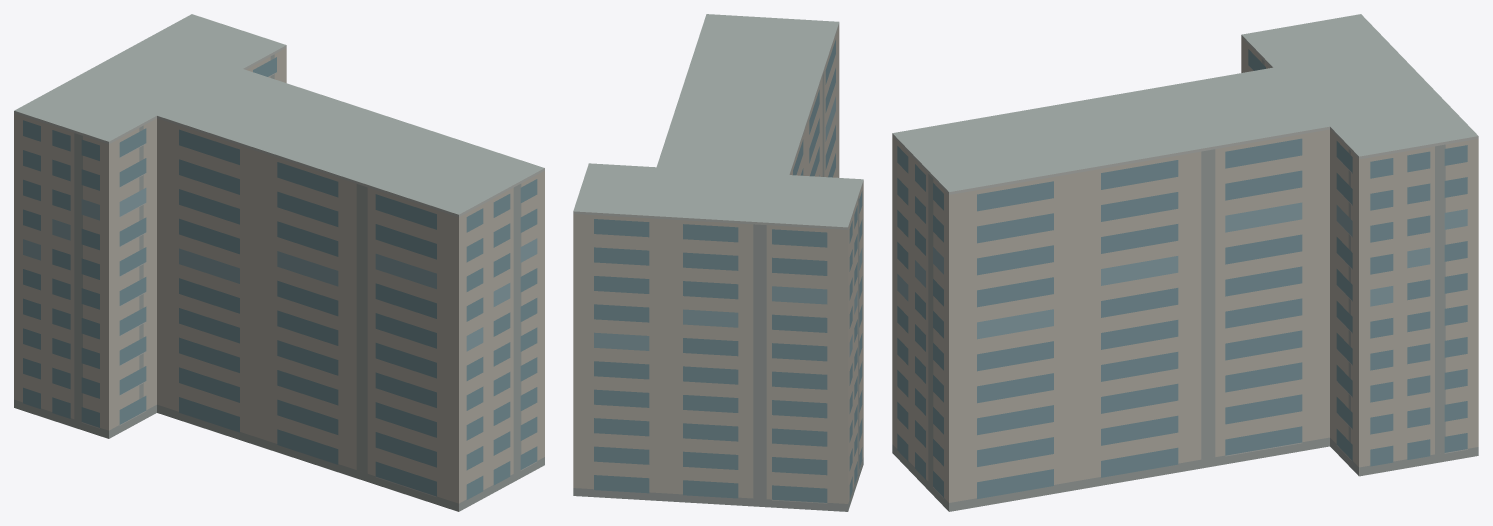
Rendered from residential-5c72e43d-379d-4ee1-a054-ac714c4b5a91.glb.
The picture shows the model from 3 angles, left to right: view 1: azimuth 30°, elevation 25°; view 2: azimuth 150°, elevation 25°; view 3: azimuth 270°, elevation 25°; orthographic projection. The views are drawn at different scales.
Parts seen in each view (by area): view 1: residential-5c72e43d-379d-4ee1-a054-ac714c4b5a91.tmp; view 2: residential-5c72e43d-379d-4ee1-a054-ac714c4b5a91.tmp; view 3: residential-5c72e43d-379d-4ee1-a054-ac714c4b5a91.tmp.
Boxes of the visible parts, x1=… form: residential-5c72e43d-379d-4ee1-a054-ac714c4b5a91.tmp: x1=14, y1=14, x2=544, y2=511; residential-5c72e43d-379d-4ee1-a054-ac714c4b5a91.tmp: x1=573, y1=14, x2=863, y2=511; residential-5c72e43d-379d-4ee1-a054-ac714c4b5a91.tmp: x1=892, y1=14, x2=1478, y2=511.
Bounding box in the file's own units: 33.47 × 28 × 46.54.
